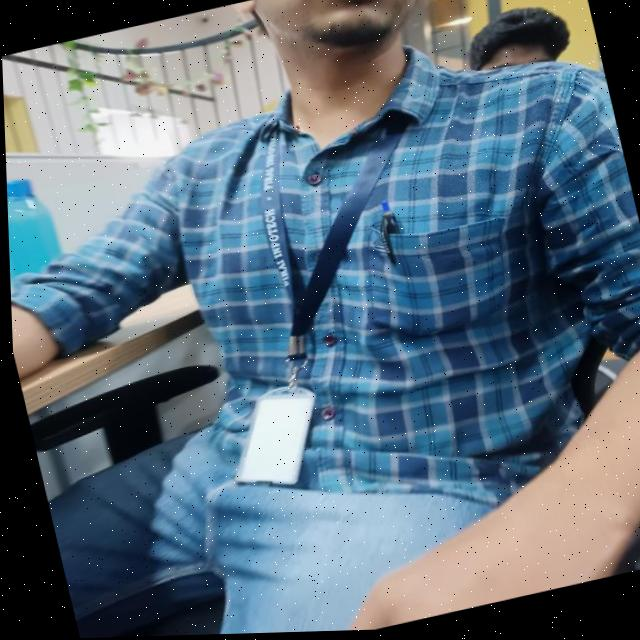id_card: (138, 72, 488, 511)
